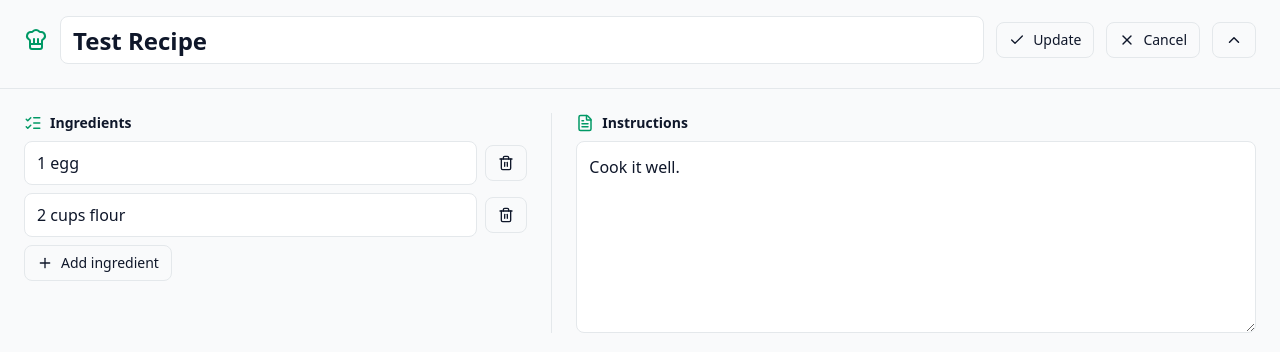
Test: RecipeCardEditor › adds an ingredient row when Add ingredient is clicked
The width and height of the screenshot is (1280, 352).
Check: the number of fields named "Ingredient 1" is 2, box left=24, top=141, right=477, bottom=185; left=24, top=193, right=477, bottom=237
What coordinates should you click on to do the following:
click the button "Add ingredient"
I would click on:
 (98, 263)
Its box is left=24, top=245, right=172, bottom=281.
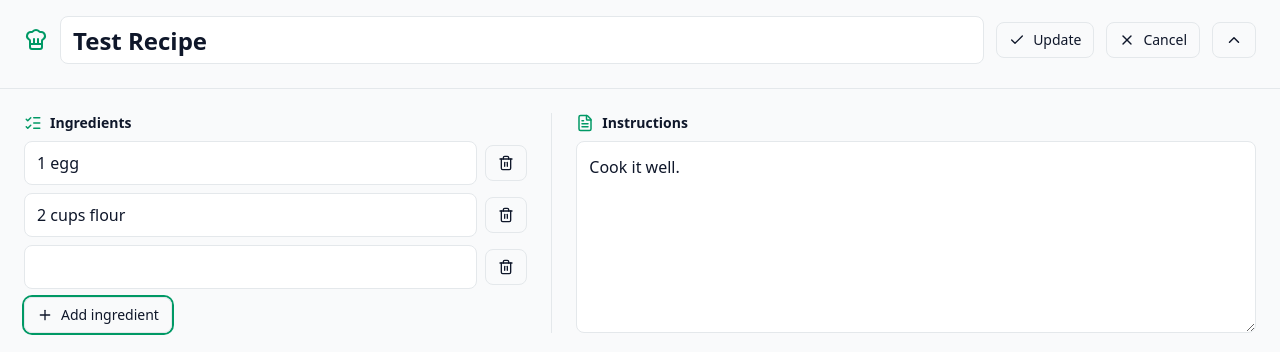
Check: the number of fields named "Ingredient 1" is 3, box left=24, top=141, right=477, bottom=185; left=24, top=193, right=477, bottom=237; left=24, top=245, right=477, bottom=289
